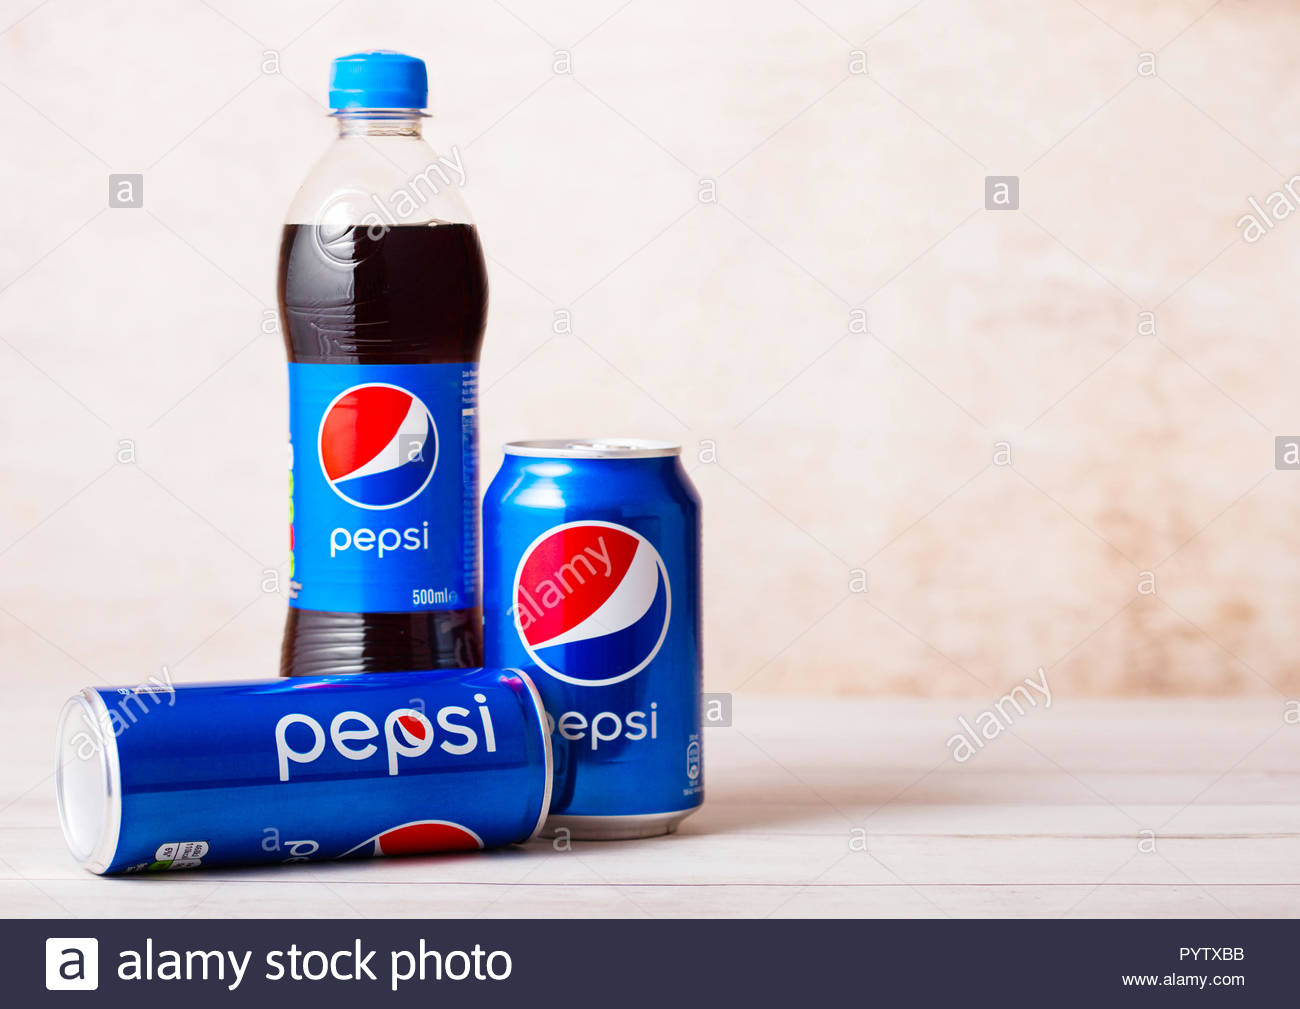pepsi: (513, 519, 669, 681), (513, 521, 669, 681), (312, 379, 437, 511), (389, 713, 429, 749)
